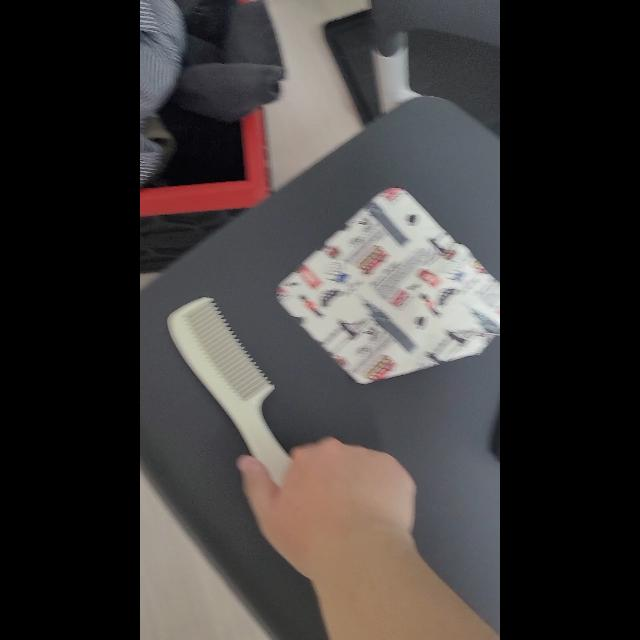COMB: (167, 296, 293, 486)
Glasses cleaning cloth: (276, 186, 500, 384)
